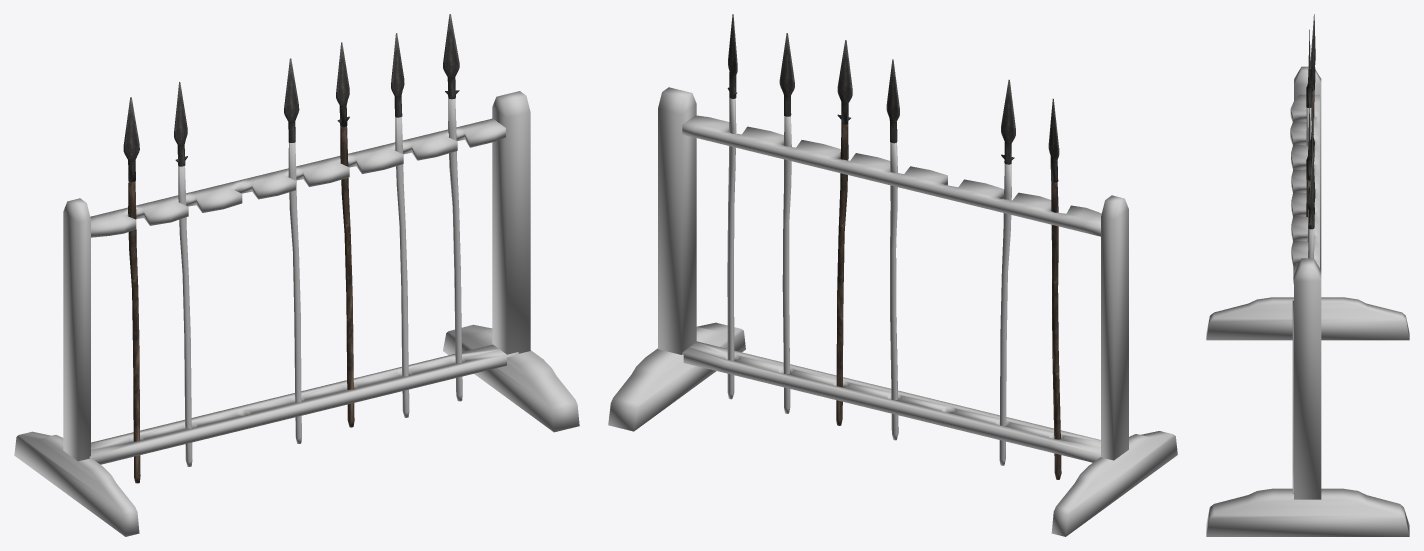
Rendered from weapon1.fbx.
The picture shows the model from 3 angles, left to right: view 1: azimuth 30°, elevation 25°; view 2: azimuth 150°, elevation 25°; view 3: azimuth 270°, elevation 25°; orthographic projection. The views are drawn at different scales.
Parts seen in each view (by area): view 1: wood5, weapon1, wood1, wood4; view 2: wood5, weapon1, wood1, wood4; view 3: wood5, weapon1, wood1.
Boxes of the visible parts, x1,y1,x2,y2 form: wood5: (14, 91, 579, 536); weapon1: (123, 14, 459, 483); wood1: (178, 98, 462, 466); wood4: (288, 142, 301, 443); wood5: (608, 87, 1177, 536); weapon1: (727, 14, 1061, 479); wood1: (727, 97, 1011, 465); wood4: (890, 142, 898, 440); wood5: (1206, 66, 1409, 536); weapon1: (1306, 14, 1315, 241); wood1: (1306, 108, 1314, 258).
Bounding box in the file's own units: 35.46 × 28.94 × 15.04.
